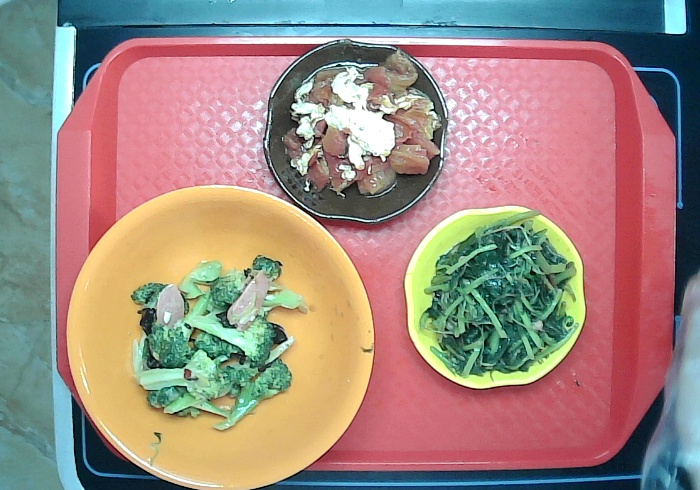YKMZ-Huang_Se_Ao_Bian_Wan: (395, 197, 592, 396)
YKMZ-Ju_Se_Tang_Wan: (60, 179, 378, 490)
YKMZ-Ka_Fei_Ao_Bian_Wan: (257, 36, 454, 225)
